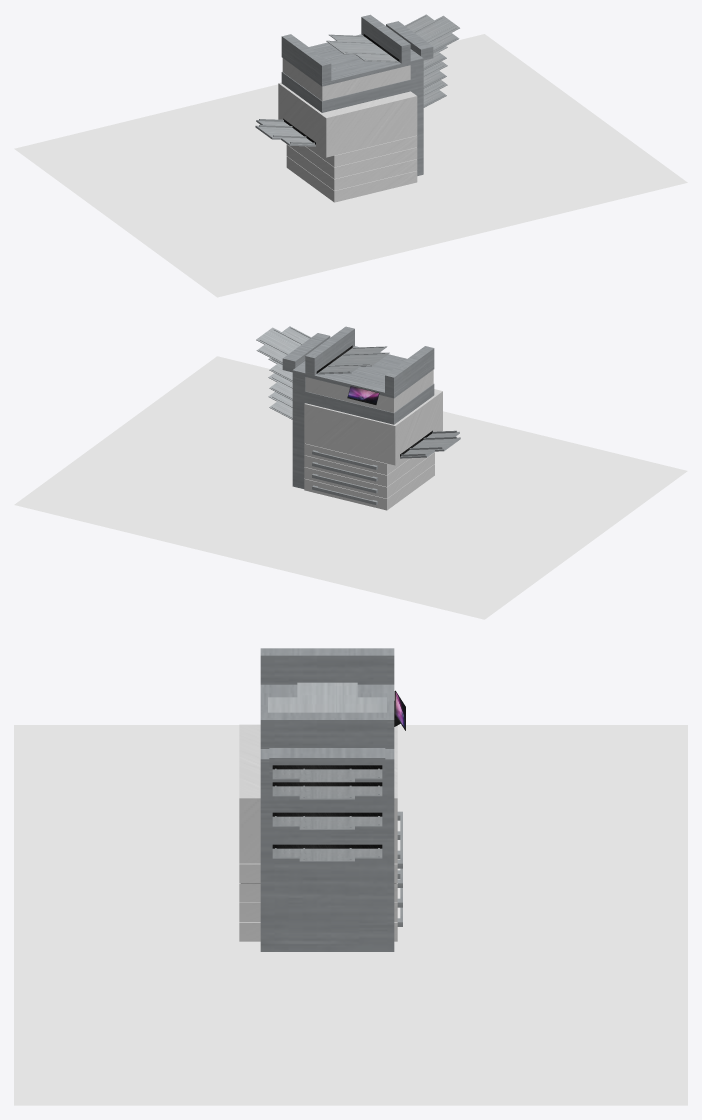
Rendered from Copy Machine SHC QuickOffice.fbx.
3 renders of one model, top to bottom at view 1: azimuth 30°, elevation 25°; view 2: azimuth 150°, elevation 25°; view 3: azimuth 270°, elevation 25°, orthographic. The views are drawn at different scales.
Parts seen in each view (by area): view 1: Model, Component_155_1, Component_152_1, Component_151_4, Component_151_3, Component_151_2, Component_151_1, Component_153_5, Component_153_1, Component_153_4; view 2: Model, Component_155_1, Component_152_1, Component_151_3, Component_151_4, Component_151_2, Component_151_1, Component_153_5, Component_153_1, Component_153_4; view 3: Model, Component_155_1, Component_152_1, Component_153_1, Component_153_2, Component_153_5, Component_153_3, Component_153_6, Component_151_1.
Part boxes in pixels (x1=…): Model: x1=14, y1=34, x2=687, y2=297; Component_155_1: x1=281, y1=14, x2=433, y2=175; Component_152_1: x1=278, y1=82, x2=417, y2=157; Component_151_4: x1=286, y1=144, x2=417, y2=190; Component_151_3: x1=286, y1=156, x2=417, y2=202; Component_151_2: x1=288, y1=145, x2=417, y2=178; Component_151_1: x1=306, y1=135, x2=417, y2=167; Component_153_5: x1=405, y1=14, x2=459, y2=52; Component_153_1: x1=326, y1=34, x2=398, y2=62; Component_153_4: x1=255, y1=119, x2=315, y2=146; Model: x1=14, y1=356, x2=687, y2=619; Component_155_1: x1=282, y1=326, x2=434, y2=488; Component_152_1: x1=304, y1=389, x2=442, y2=465; Component_151_3: x1=304, y1=464, x2=434, y2=510; Component_151_4: x1=304, y1=452, x2=434, y2=498; Component_151_2: x1=304, y1=454, x2=431, y2=486; Component_151_1: x1=304, y1=443, x2=409, y2=475; Component_153_5: x1=256, y1=326, x2=310, y2=363; Component_153_1: x1=317, y1=346, x2=389, y2=374; Component_153_4: x1=400, y1=430, x2=460, y2=458; Model: x1=14, y1=725, x2=687, y2=1105; Component_155_1: x1=260, y1=648, x2=394, y2=951; Component_152_1: x1=239, y1=724, x2=397, y2=863; Component_153_1: x1=268, y1=682, x2=386, y2=712; Component_153_2: x1=272, y1=785, x2=382, y2=799; Component_153_5: x1=272, y1=768, x2=382, y2=782; Component_153_3: x1=272, y1=848, x2=382, y2=861; Component_153_6: x1=272, y1=816, x2=382, y2=829; Component_151_1: x1=239, y1=811, x2=402, y2=882.
Size of the model in its own units: 5.12 by 1.39 by 3.83.
